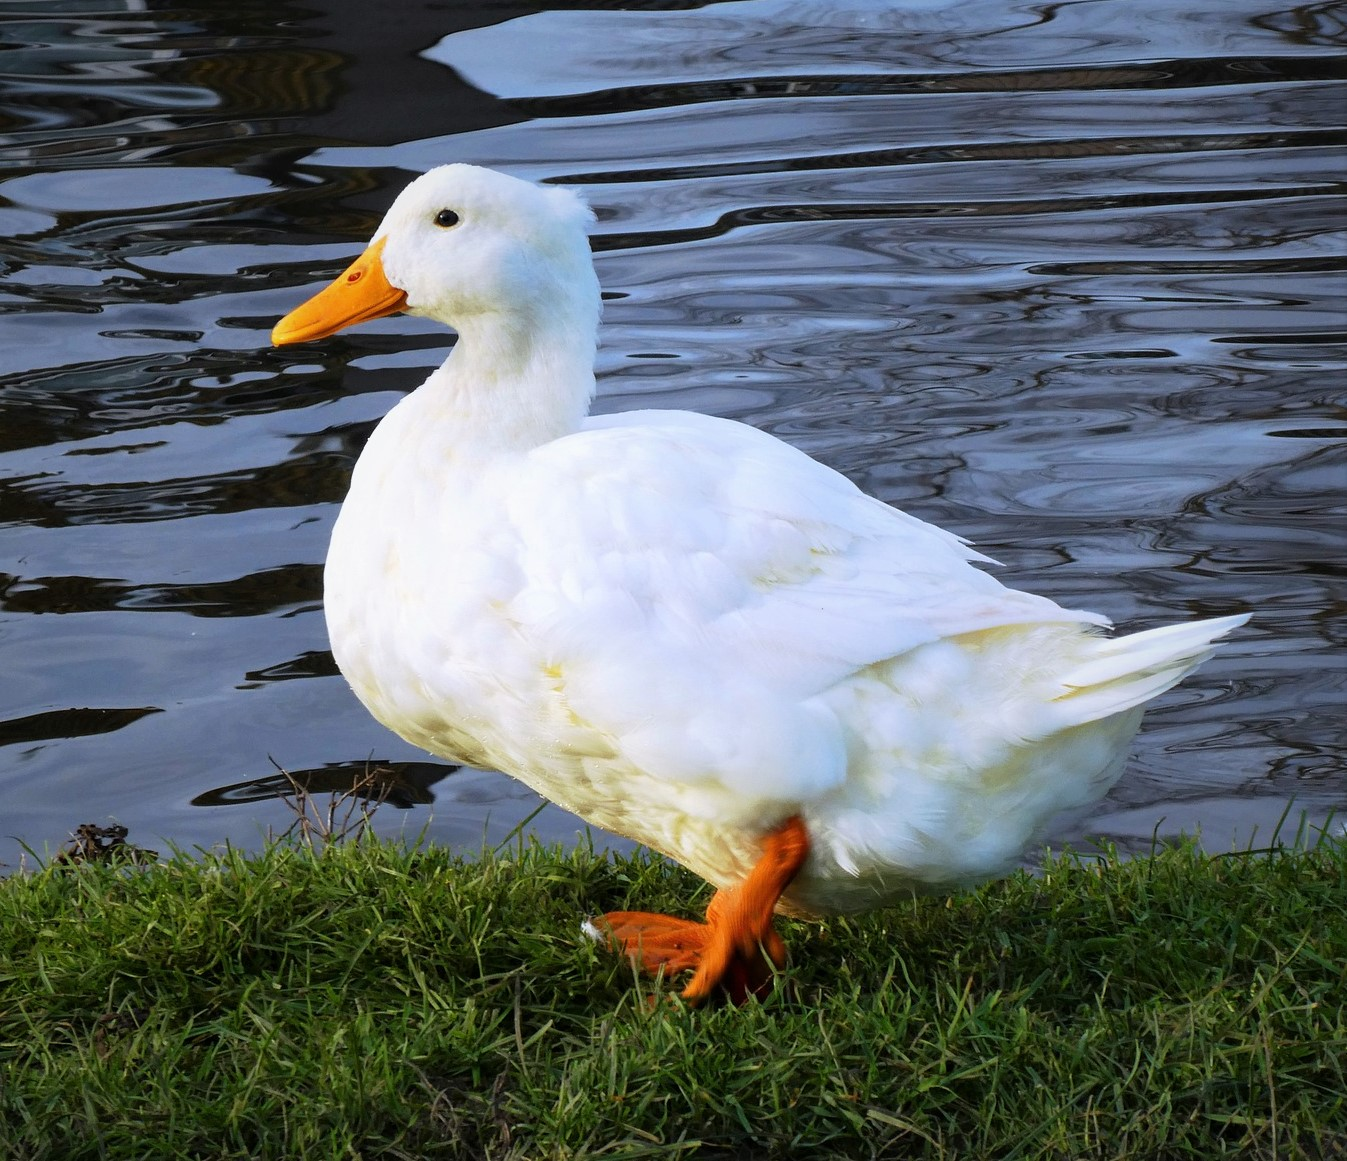Mencari Makan di Lumpur: (229, 232, 405, 377)
